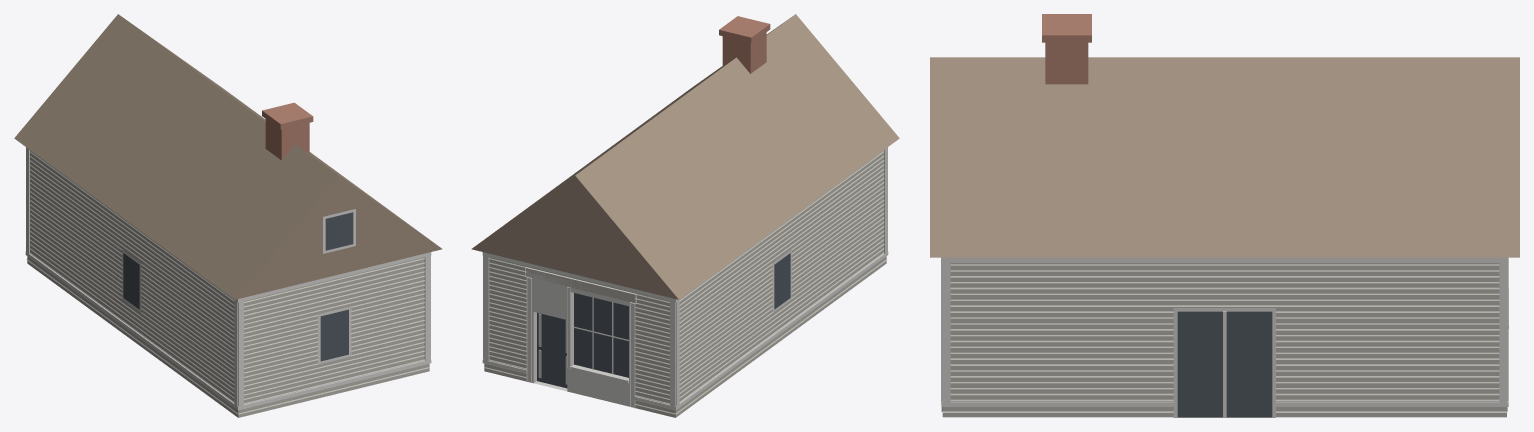
The model's file is recon_1835_south_c2_036__inferred_1835.glb.
3 renders of one model, left to right at view 1: azimuth 30°, elevation 25°; view 2: azimuth 150°, elevation 25°; view 3: azimuth 270°, elevation 25°, orthographic. The views are drawn at different scales.
Parts seen in each view (by area): view 1: recon_1835_south_c2_036__inferred_1835; view 2: recon_1835_south_c2_036__inferred_1835; view 3: recon_1835_south_c2_036__inferred_1835.
Part boxes in pixels (bbox=[...]): recon_1835_south_c2_036__inferred_1835: bbox=[14, 14, 442, 417]; recon_1835_south_c2_036__inferred_1835: bbox=[471, 14, 899, 417]; recon_1835_south_c2_036__inferred_1835: bbox=[930, 14, 1519, 417].
Bounding box in the file's own units: 6.27 × 7.13 × 11.57.
